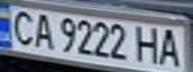2: (109, 20, 133, 62), (90, 19, 112, 60), (72, 17, 93, 56)
9: (54, 15, 78, 53)
A: (154, 26, 187, 68), (30, 11, 57, 50)
C: (6, 8, 39, 47)
H: (133, 24, 163, 65)
